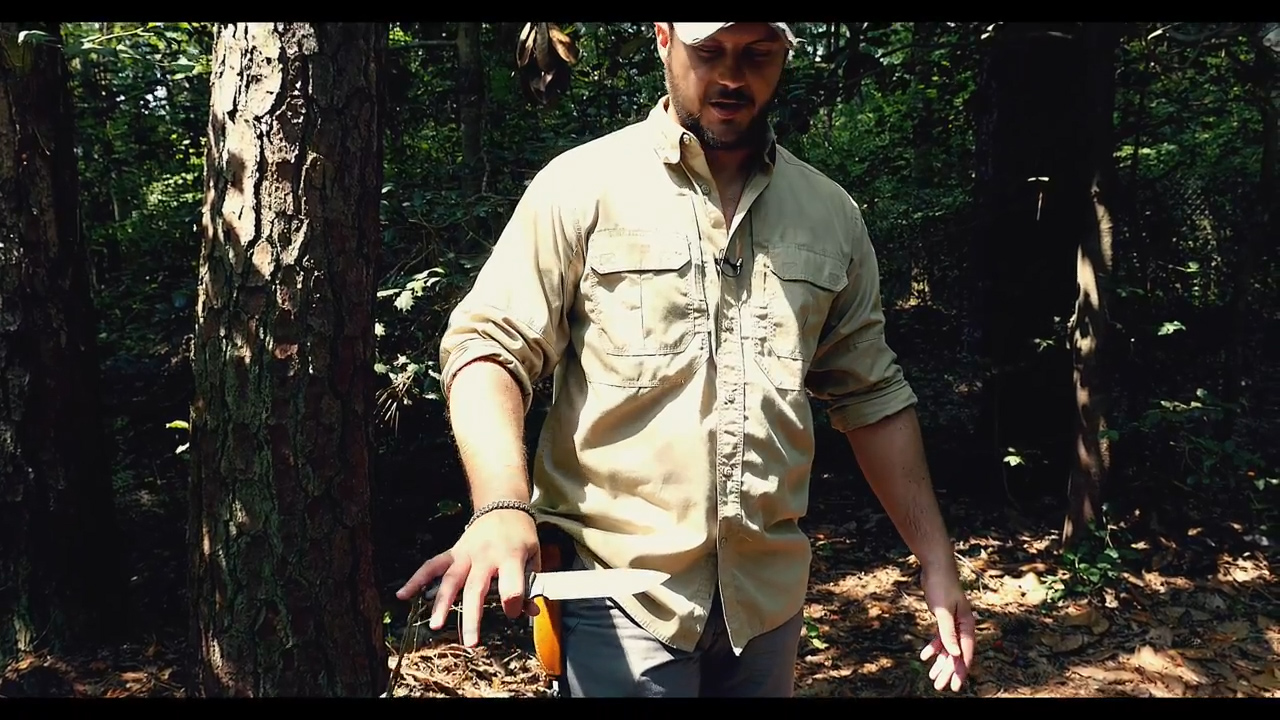knife: (425, 550, 683, 654)
